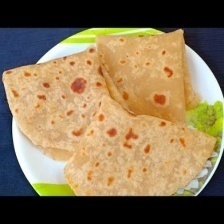roti: (1, 29, 215, 197)
